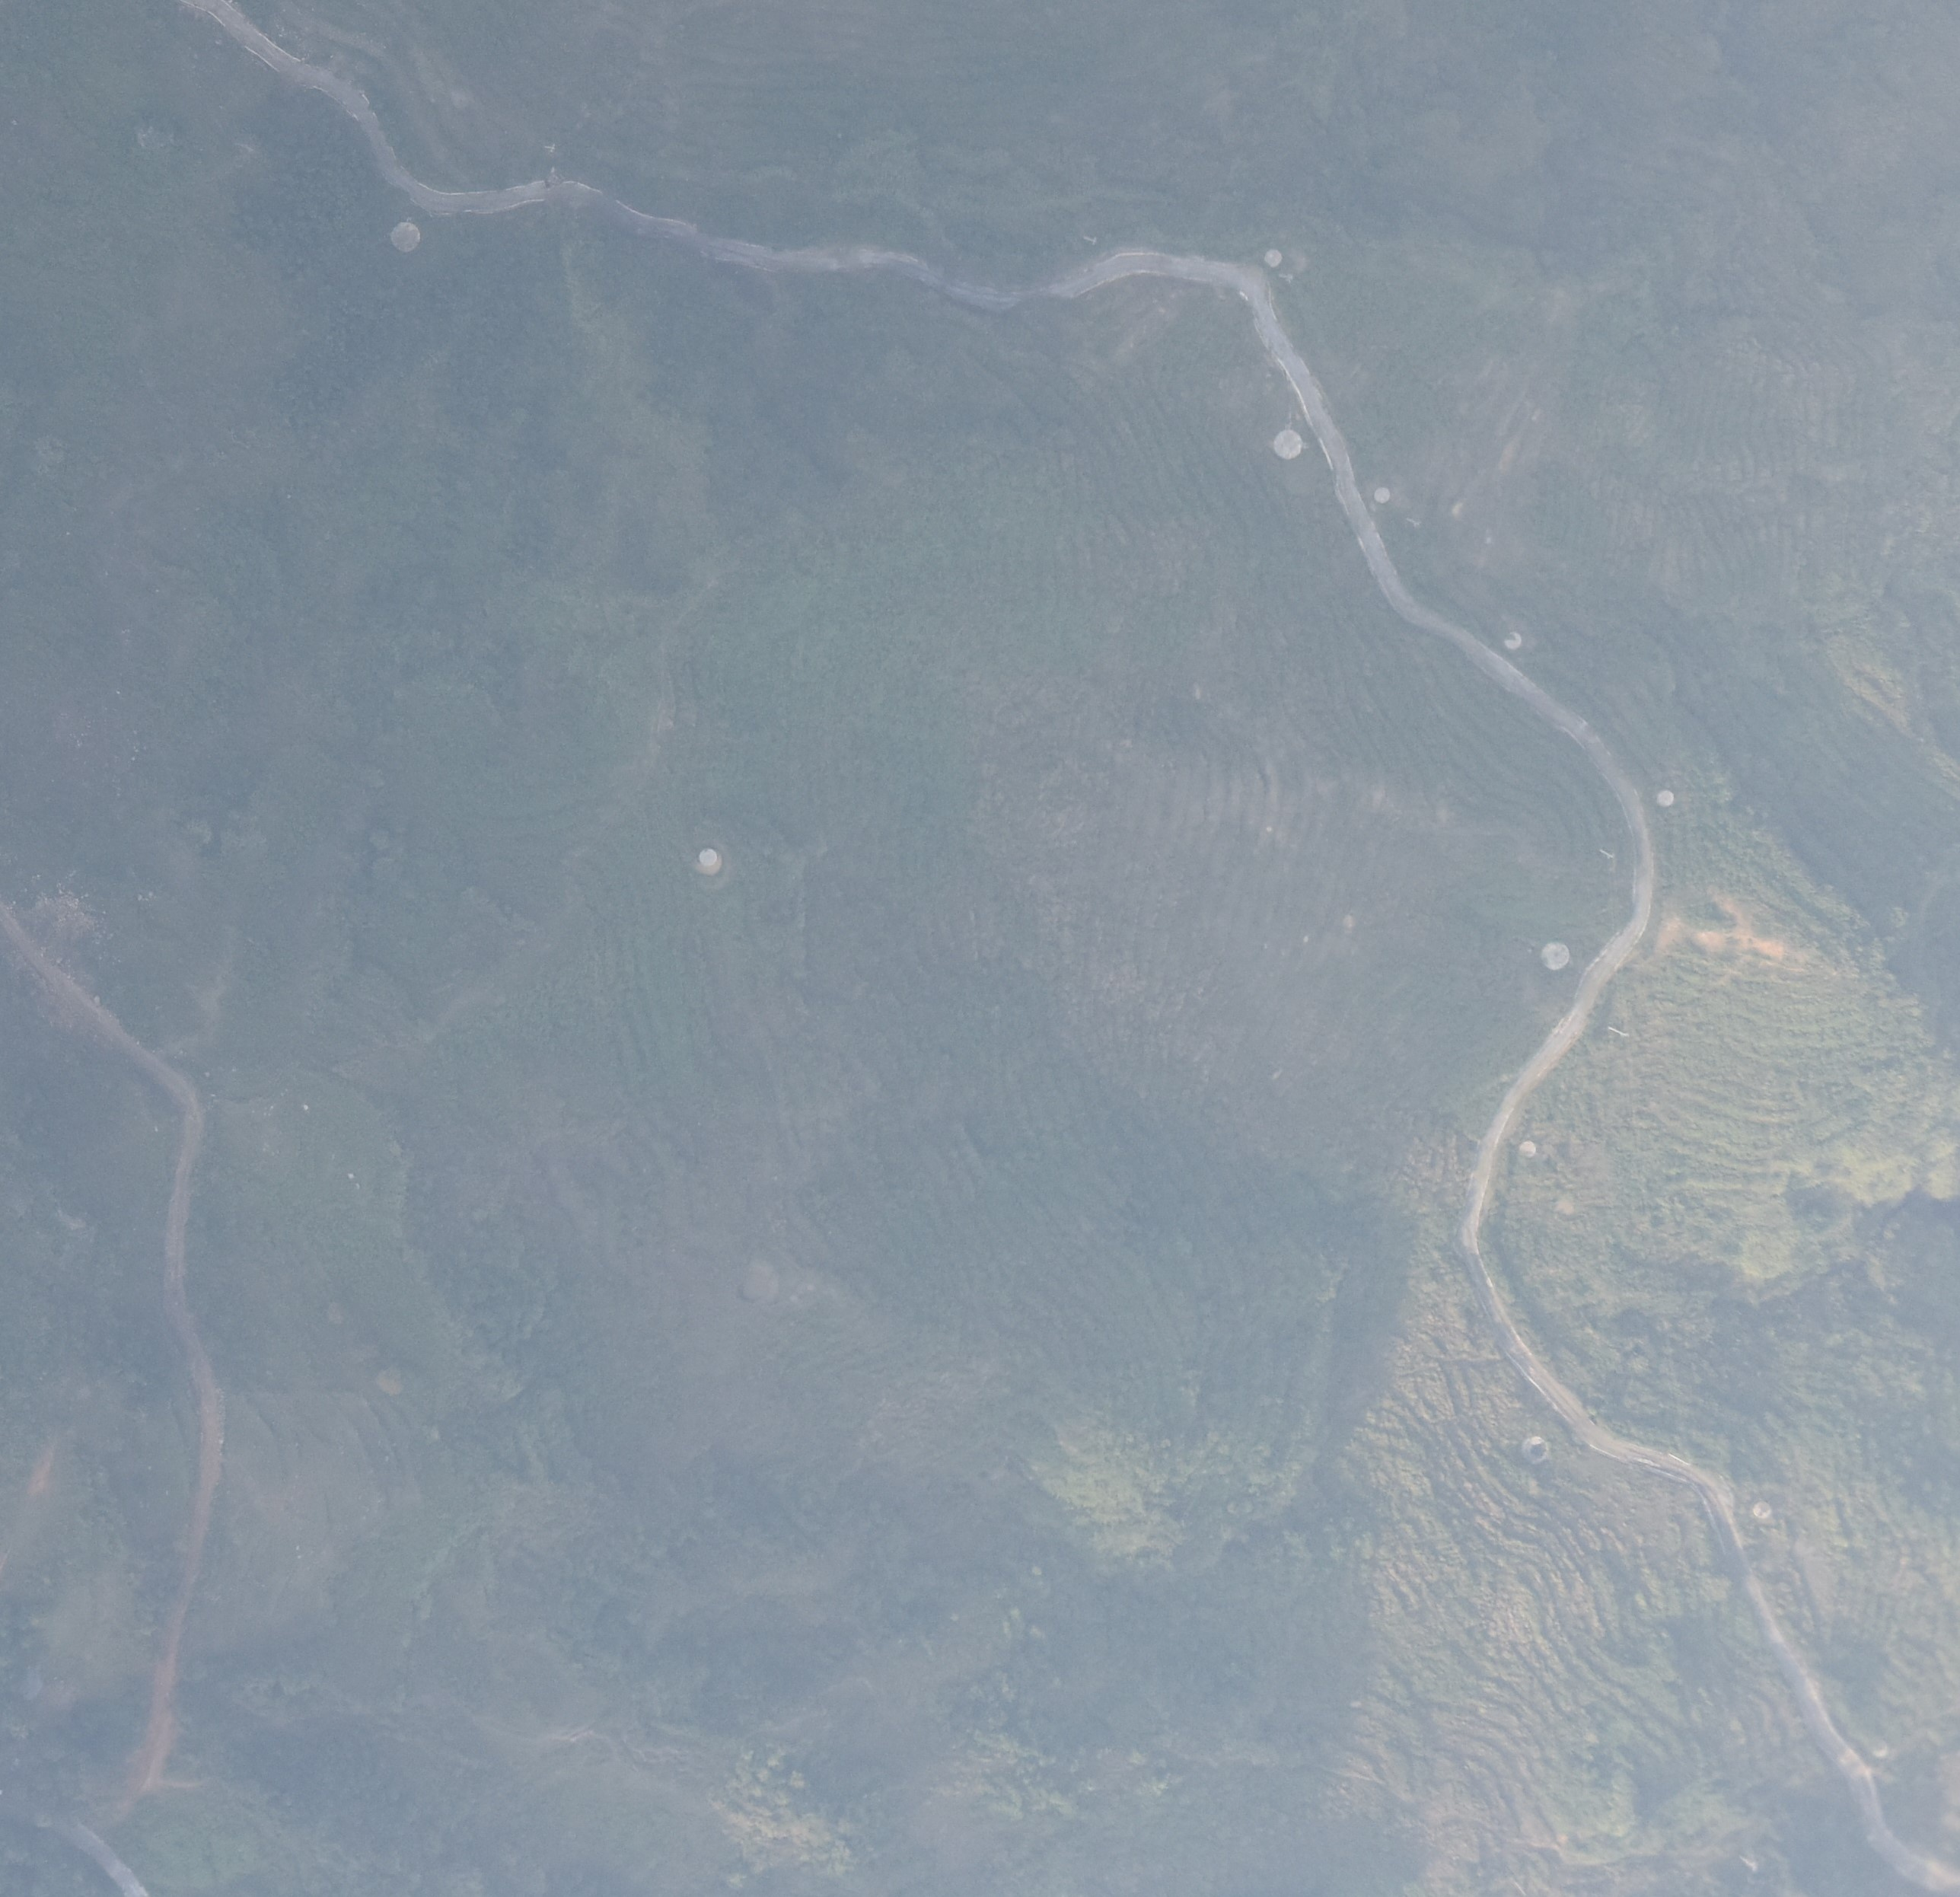well: (1269, 425, 1304, 464), (1538, 938, 1573, 971), (390, 219, 422, 254), (1750, 1495, 1781, 1524), (1517, 1437, 1552, 1463), (1515, 1139, 1542, 1164), (696, 844, 723, 868), (1258, 247, 1284, 270), (1654, 786, 1676, 809), (1501, 628, 1524, 649), (1372, 485, 1393, 504)
